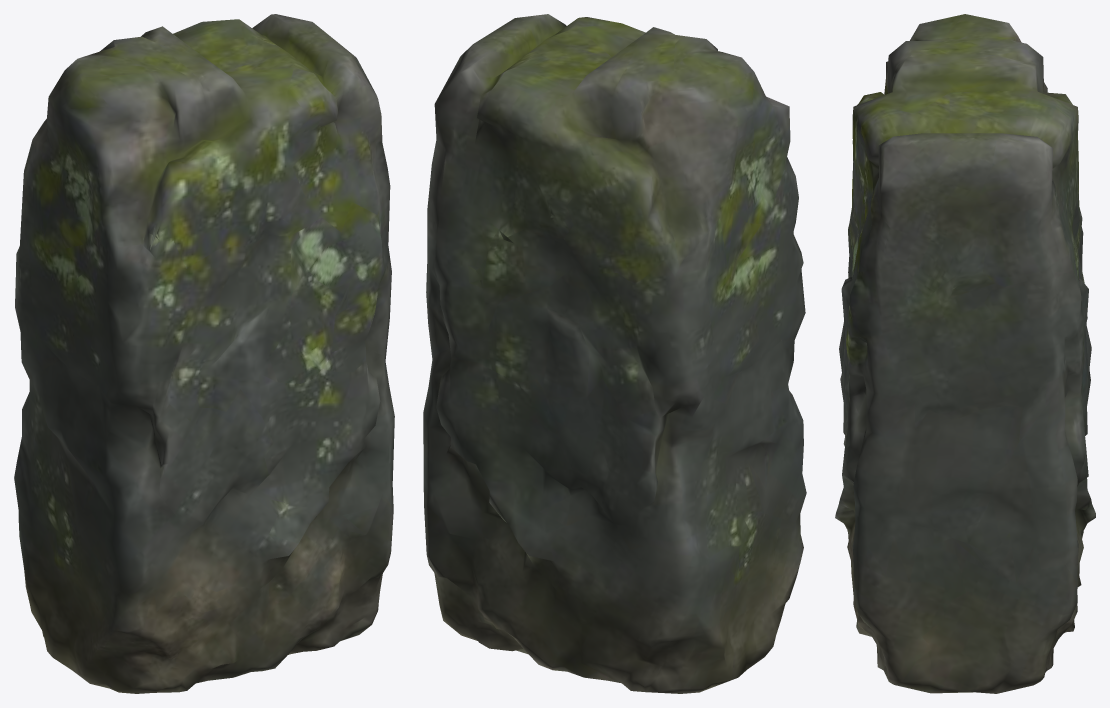
File: sarsen_stone.glb
3 renders of one model, left to right at view 1: azimuth 30°, elevation 25°; view 2: azimuth 150°, elevation 25°; view 3: azimuth 270°, elevation 25°, orthographic. The views are drawn at different scales.
Visible parts, largest first — view 1: tripo_node_ab7e2894-2038-4ec9-9a18-5aed3b9e89f3; view 2: tripo_node_ab7e2894-2038-4ec9-9a18-5aed3b9e89f3; view 3: tripo_node_ab7e2894-2038-4ec9-9a18-5aed3b9e89f3.
Boxes of the visible parts, left/top/right/bottom form: tripo_node_ab7e2894-2038-4ec9-9a18-5aed3b9e89f3: left=14, top=14, right=394, bottom=693; tripo_node_ab7e2894-2038-4ec9-9a18-5aed3b9e89f3: left=423, top=14, right=806, bottom=693; tripo_node_ab7e2894-2038-4ec9-9a18-5aed3b9e89f3: left=835, top=14, right=1095, bottom=693.
Size of the model in its own units: 0.4934 by 0.9774 by 0.4097.
Materials: 1 (1 with a texture image).
